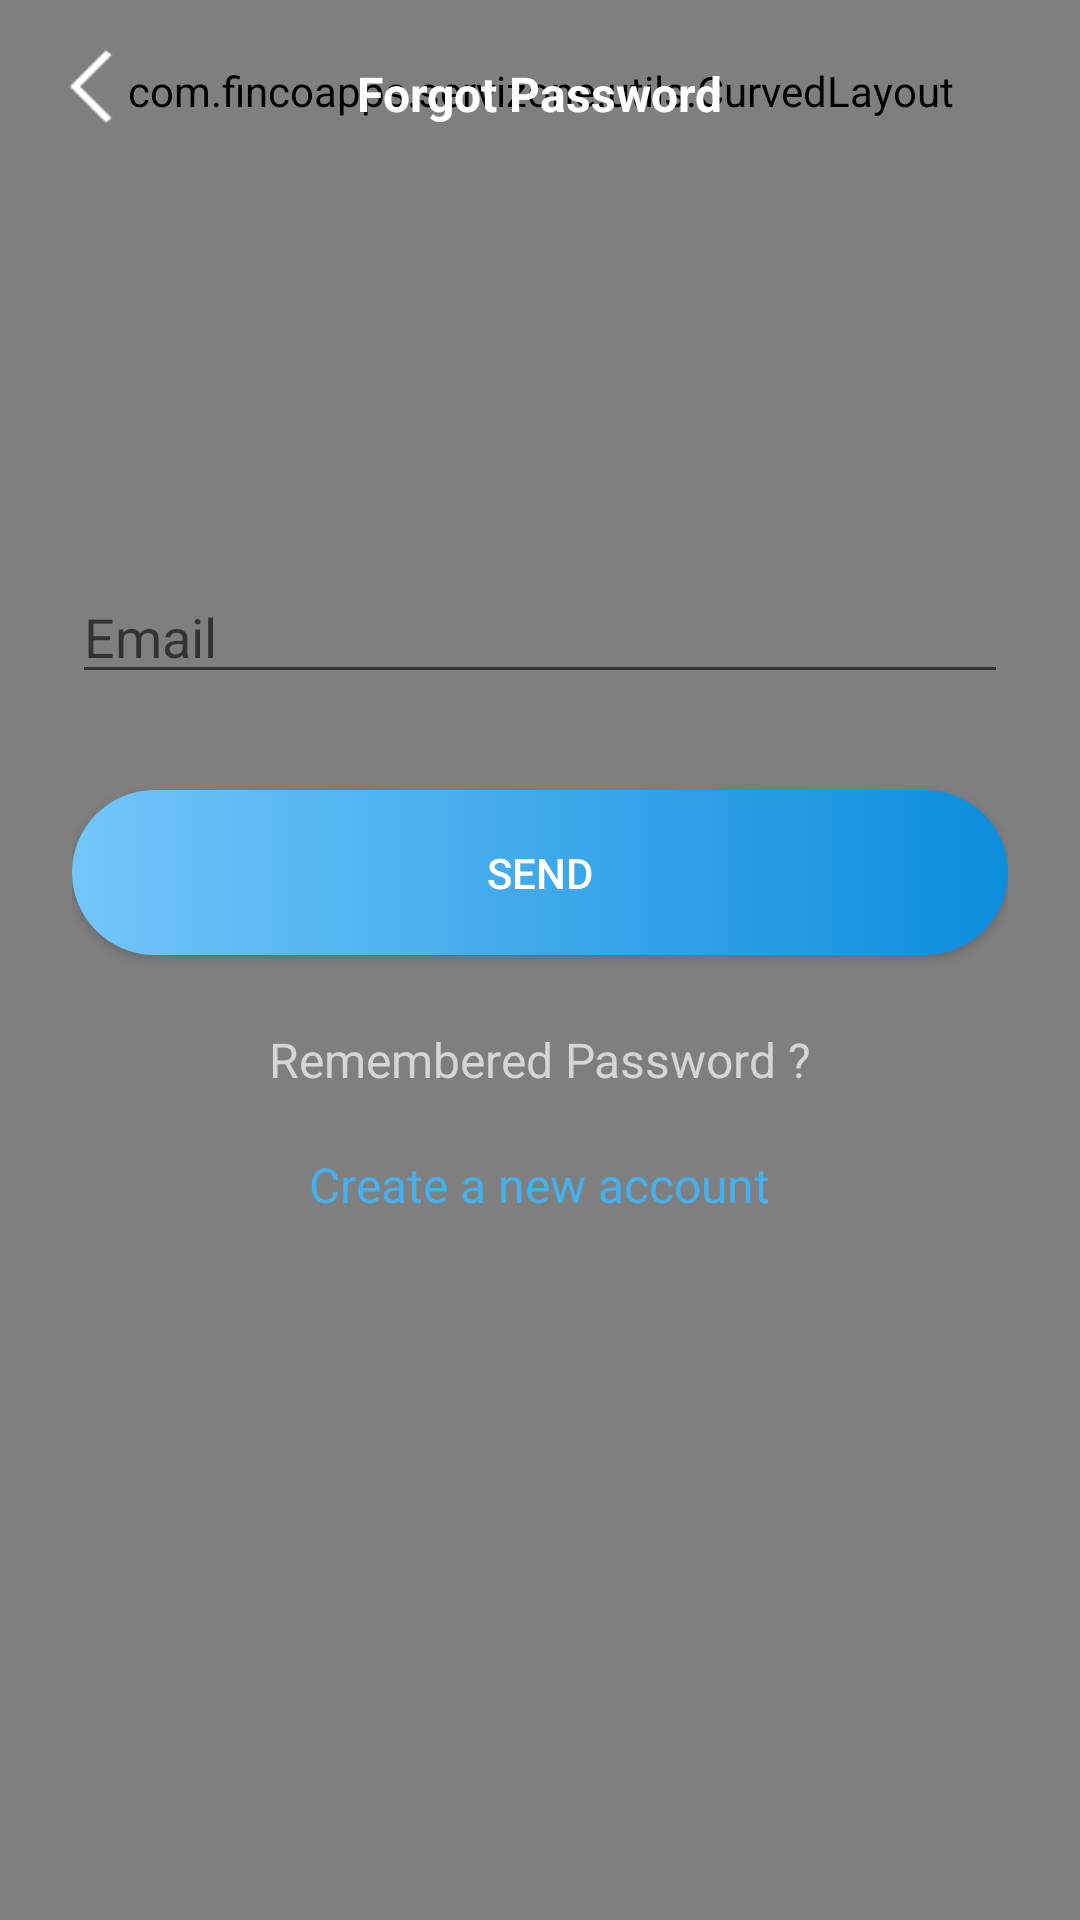

Named icons in this screenshot (1080*1920) and their centers, point (x, y):
backbtn: point (91, 86)
